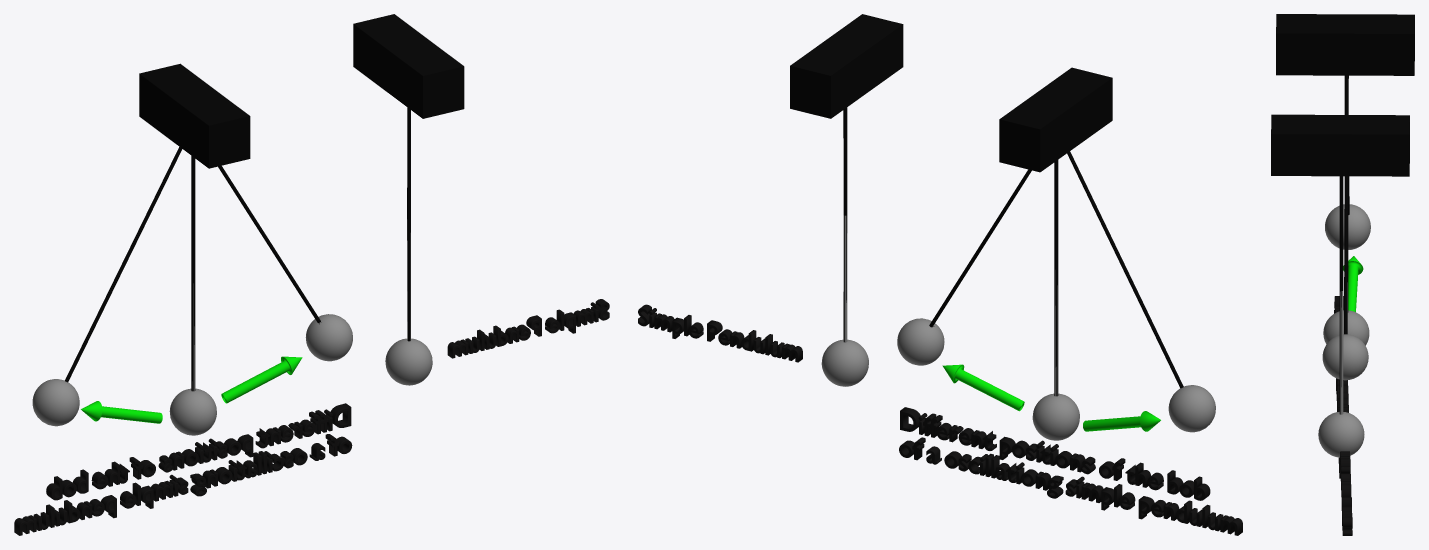
File: final_pendulum3.fbx
3 renders of one model, left to right at view 1: azimuth 30°, elevation 25°; view 2: azimuth 150°, elevation 25°; view 3: azimuth 270°, elevation 25°, orthographic. The views are drawn at different scales.
Parts seen in each view (by area): view 1: Text.001, Body3, Body2, Body7, Body9, Text.000, Body1, Body4, Cylinder.000, Cylinder.001; view 2: Text.001, Body3, Body2, Body7, Body1, Body9, Text.000, Body4, Cylinder.000, Cylinder.001; view 3: Body2, Body3, Body1, Body4, Body9, Body7, Text.000, Cylinder.001, Text.001.
Part boxes in pixels (x1,y1,x2,y2): Text.001: [14, 403, 352, 535]; Body3: [139, 63, 250, 168]; Body2: [353, 14, 464, 118]; Body7: [169, 156, 216, 435]; Body9: [32, 147, 182, 426]; Text.000: [447, 299, 609, 358]; Body1: [385, 107, 432, 385]; Body4: [218, 165, 352, 361]; Cylinder.000: [221, 356, 302, 403]; Cylinder.001: [81, 401, 162, 423]; Text.001: [899, 407, 1242, 535]; Body3: [999, 67, 1112, 172]; Body2: [790, 14, 903, 118]; Body7: [1032, 160, 1079, 440]; Body1: [821, 107, 868, 386]; Body9: [1067, 151, 1215, 432]; Text.000: [638, 304, 802, 362]; Body4: [897, 169, 1031, 365]; Cylinder.000: [942, 364, 1024, 411]; Cylinder.001: [1083, 411, 1160, 431]; Body2: [1271, 114, 1409, 176]; Body3: [1276, 14, 1414, 75]; Body1: [1318, 176, 1364, 457]; Body4: [1322, 75, 1368, 380]; Body9: [1325, 176, 1370, 249]; Body7: [1323, 76, 1369, 345]; Text.000: [1340, 451, 1352, 535]; Cylinder.001: [1343, 256, 1363, 311]; Text.001: [1334, 296, 1348, 478].
Size of the model in its own units: 296 by 190 by 63.61.
